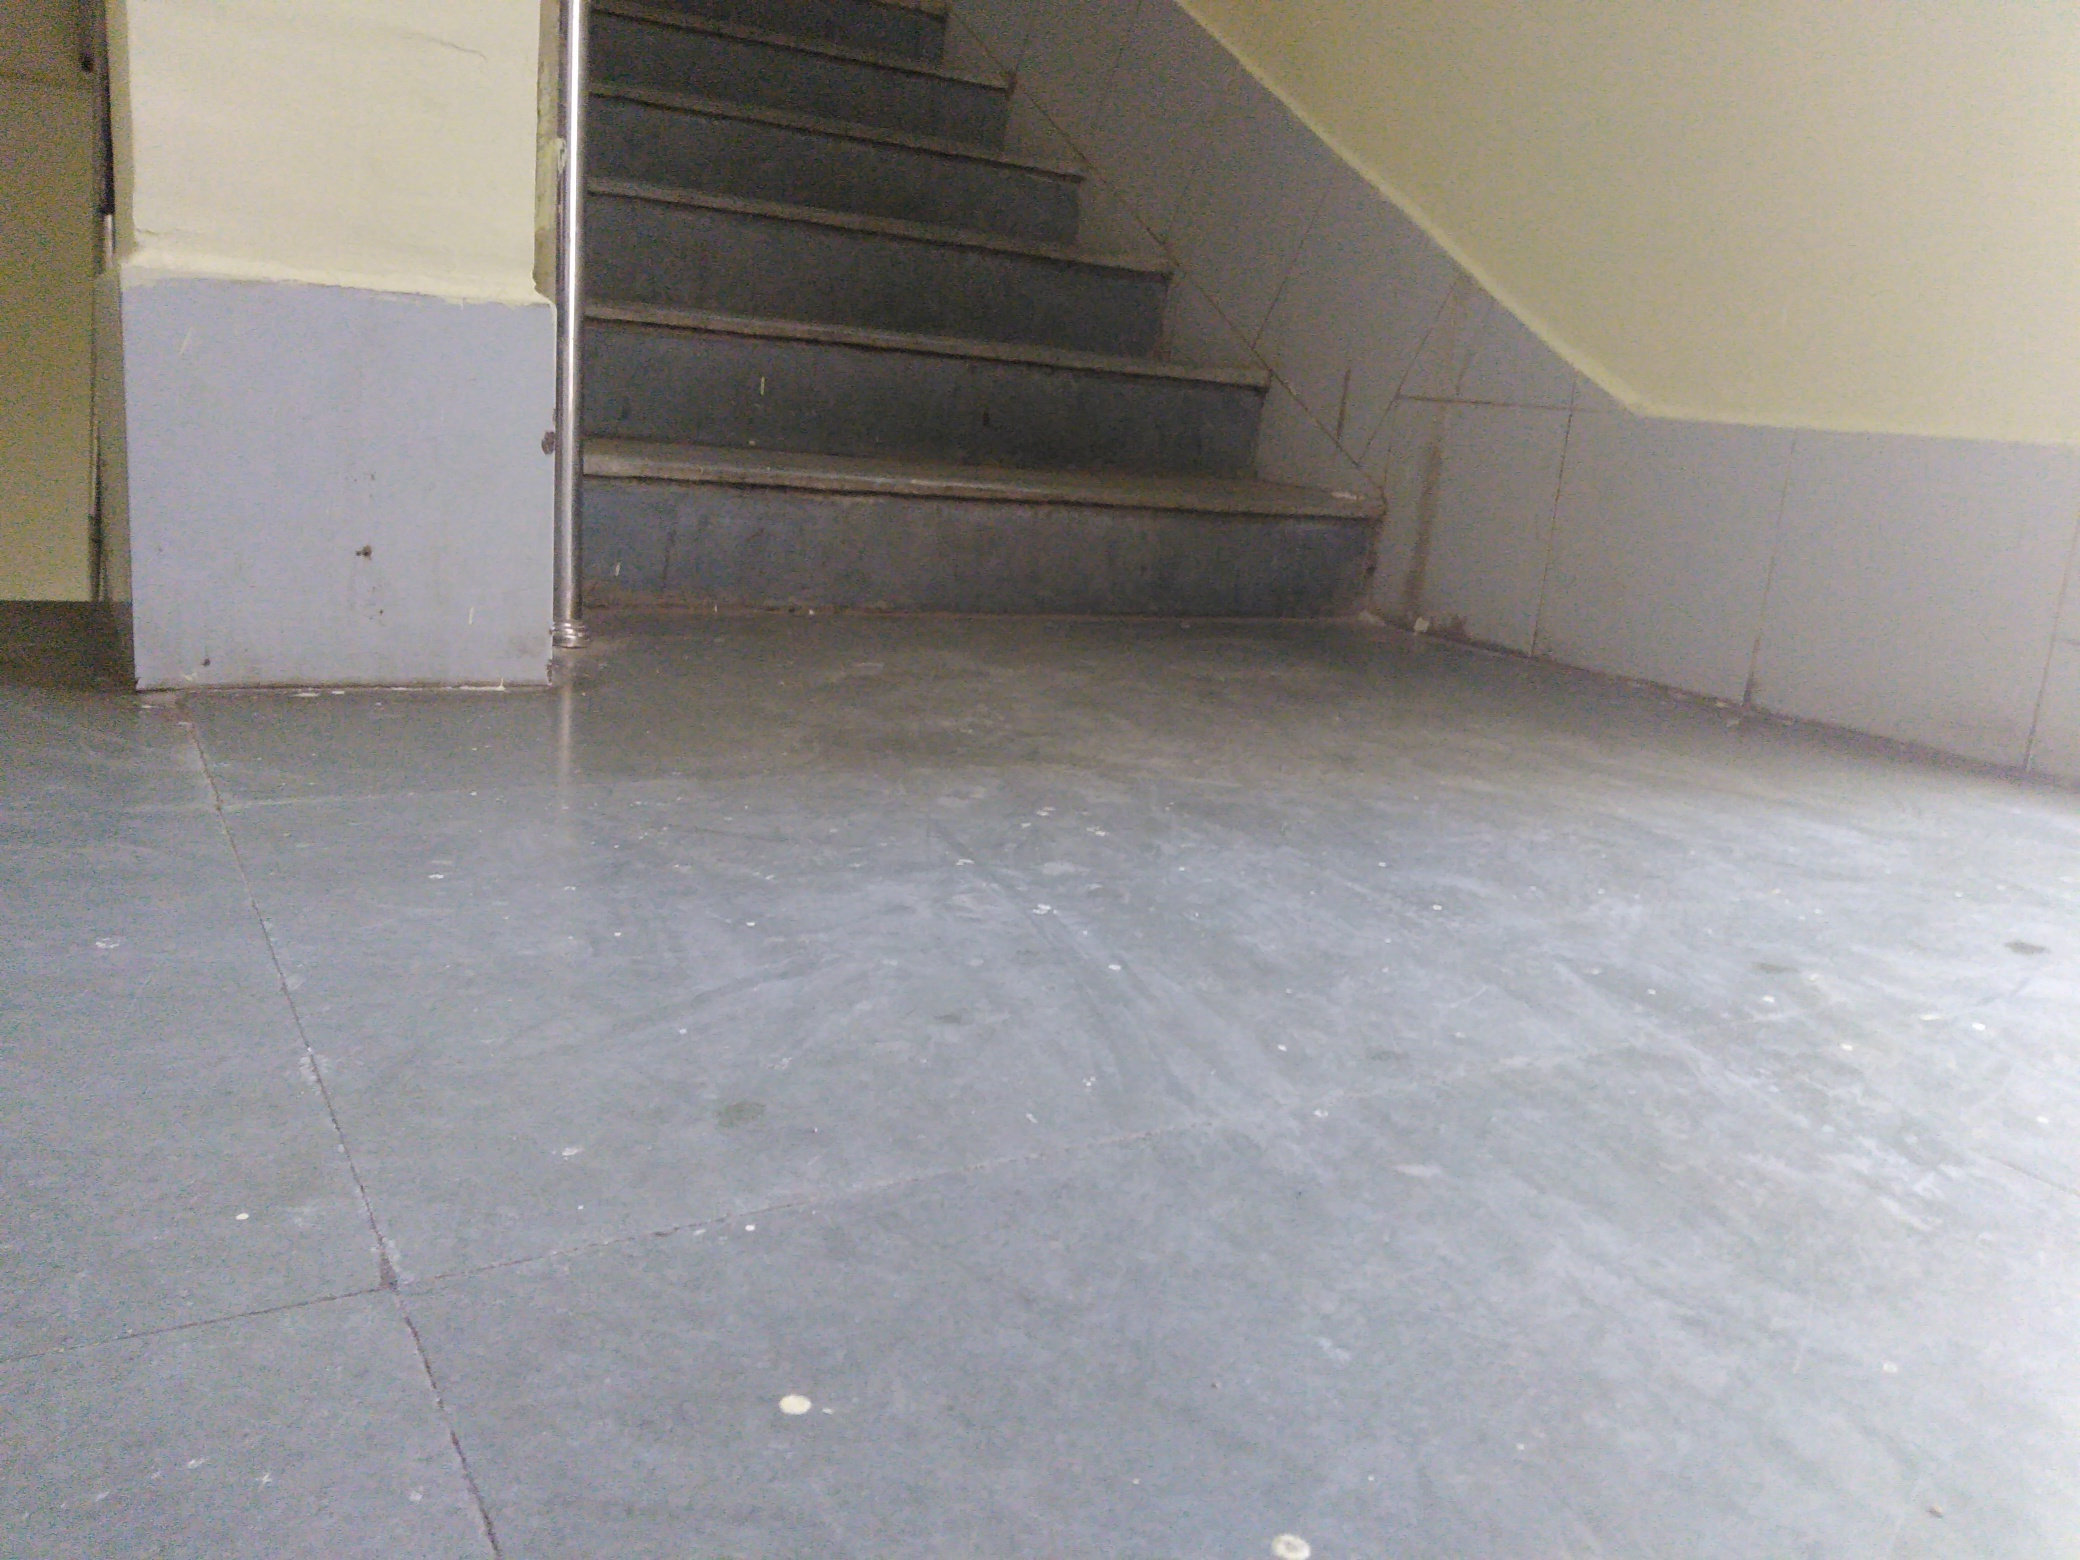stairs_up: (603, 11, 1390, 642)
